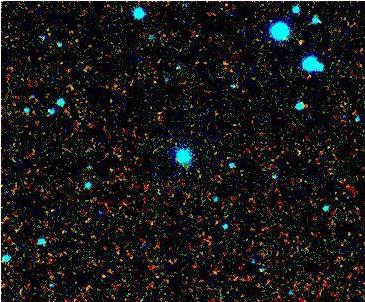star: (286, 27, 316, 57)
